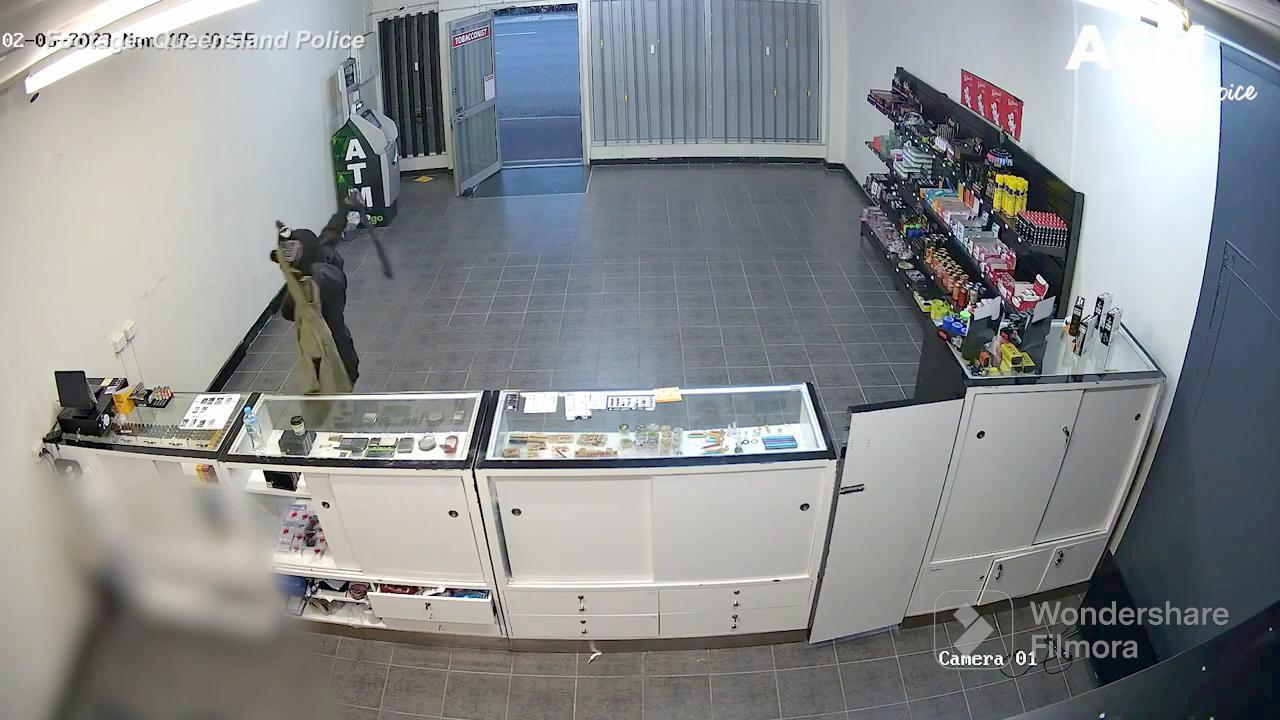melee: (344, 188, 398, 284)
